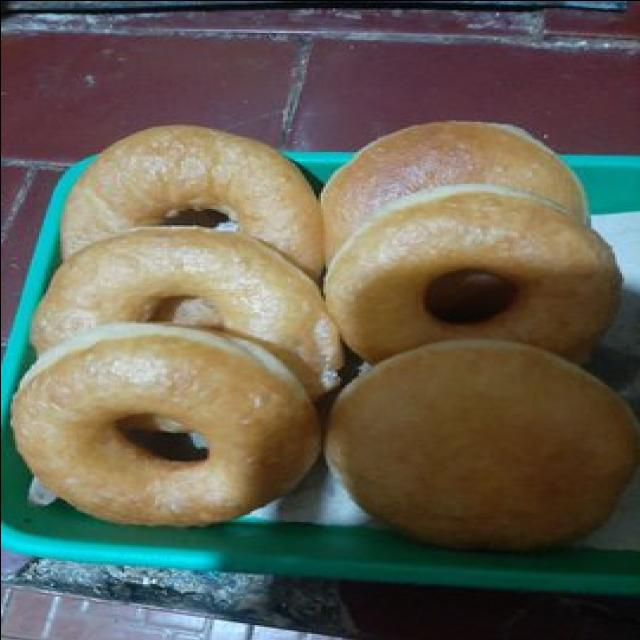donat: (12, 300, 325, 528), (322, 334, 640, 553), (322, 185, 623, 366)
